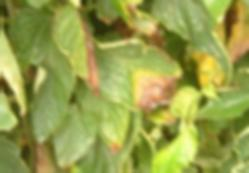Tomato mold leaf: (53, 7, 185, 122), (10, 3, 79, 143), (193, 68, 249, 126), (0, 134, 47, 173)
